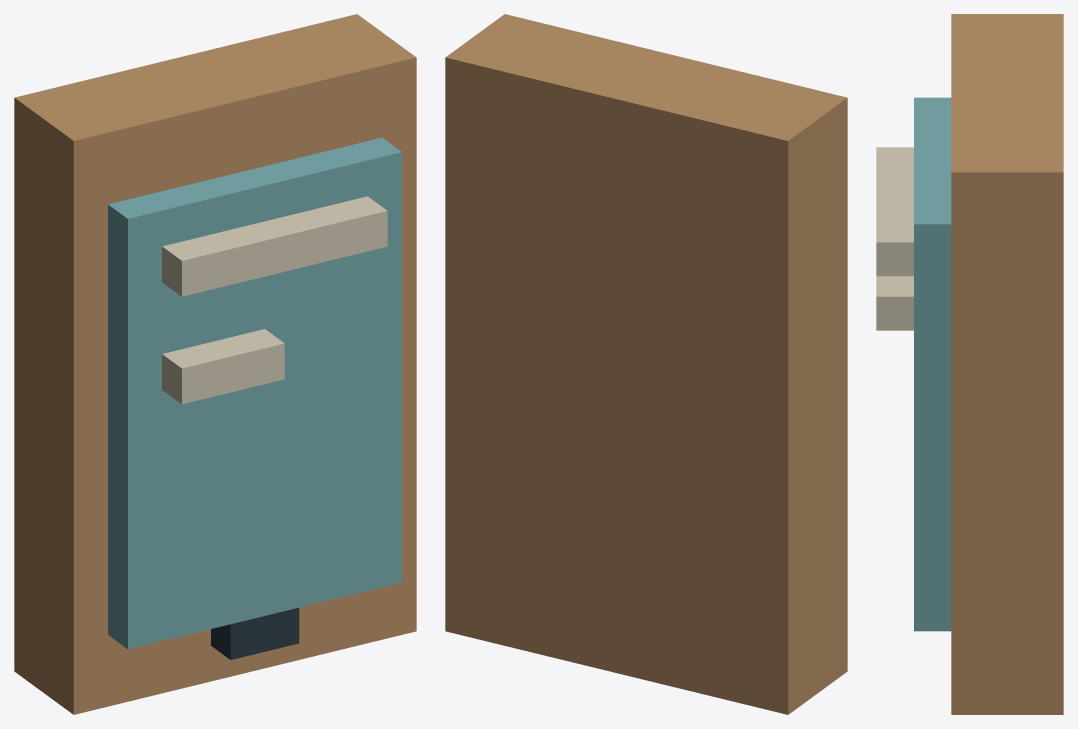
Rendered from marketing-17.glb.
The picture shows the model from 3 angles, left to right: view 1: azimuth 30°, elevation 25°; view 2: azimuth 150°, elevation 25°; view 3: azimuth 270°, elevation 25°; orthographic projection. The views are drawn at different scales.
Parts seen in each view (by area): view 1: Creative tablet; view 2: Creative tablet; view 3: Creative tablet.
Boxes of the visible parts, x1=… form: Creative tablet: x1=14, y1=14, x2=416, y2=714; Creative tablet: x1=445, y1=14, x2=847, y2=714; Creative tablet: x1=876, y1=14, x2=1063, y2=714.
Bounding box in the file's own units: 0.8 × 1.28 × 0.4.
